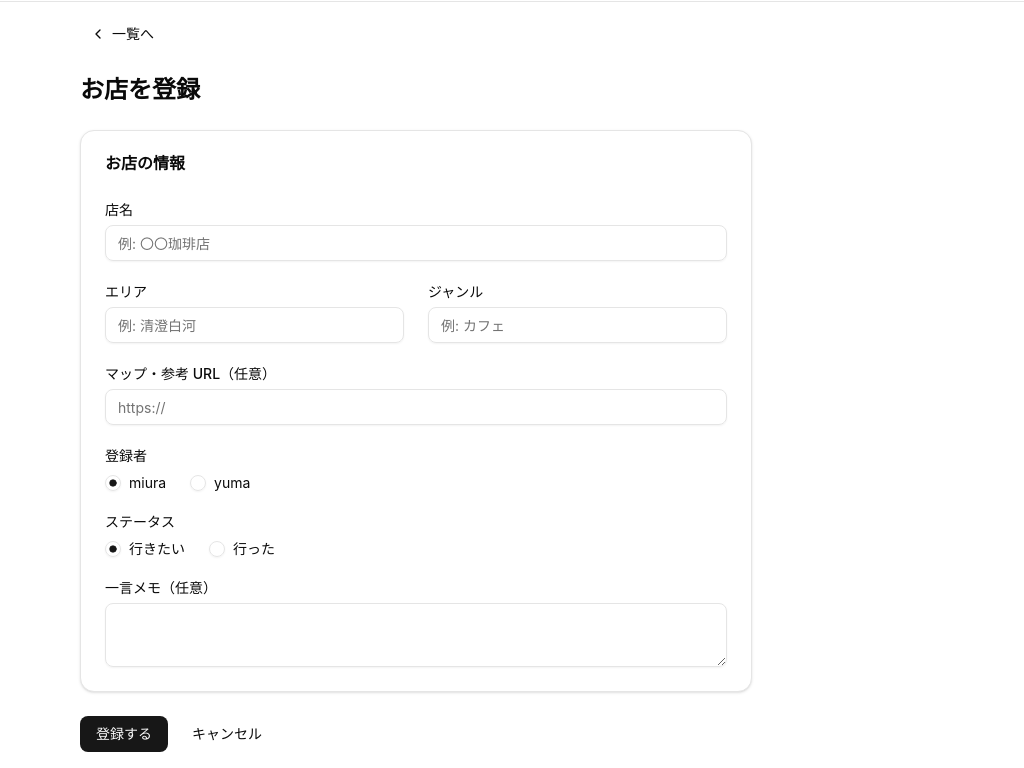
Scenario: ShopForm › 必須項目が空なら送信せず、項目の下にエラーを出す
(page scrolled)
Click the button "登録する".
click(124, 734)  # box [80,716,168,752]
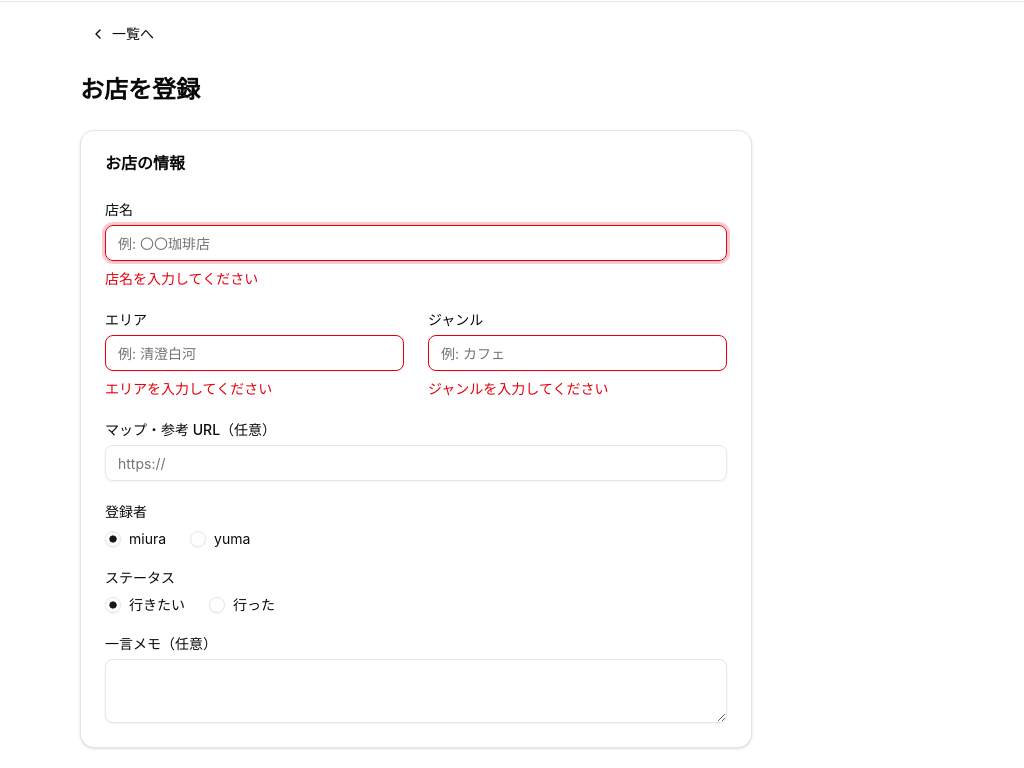
expect the text "店名を入力してください" is shown: met, box [105,270,258,287]
